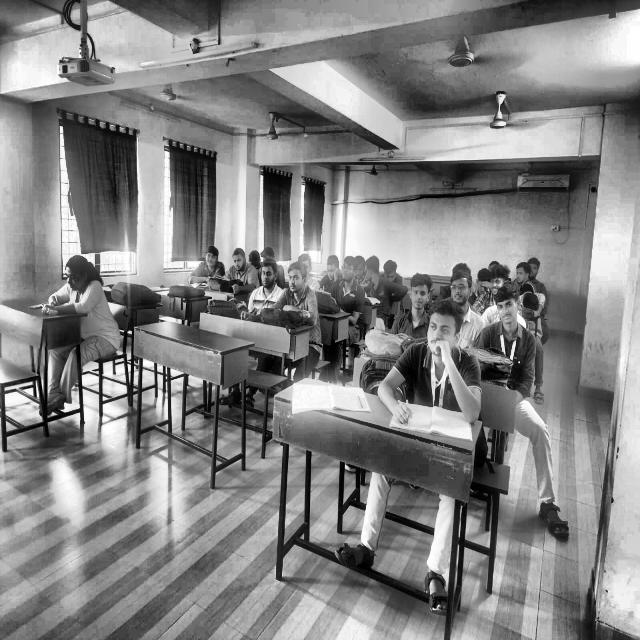Focus: (35, 233, 149, 381), (461, 225, 544, 382), (409, 300, 481, 442), (363, 253, 519, 316)
Not Focus: (208, 249, 322, 368), (493, 249, 566, 336), (324, 250, 404, 329), (524, 270, 556, 342)
